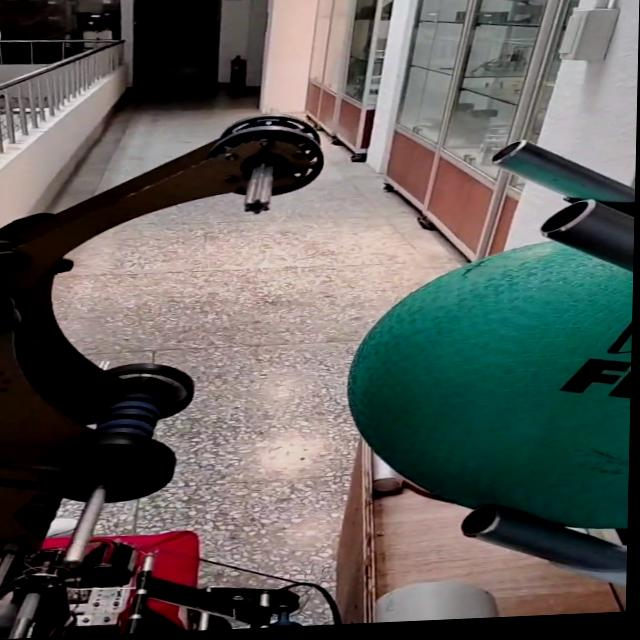ALGAE: (338, 237, 634, 537)
